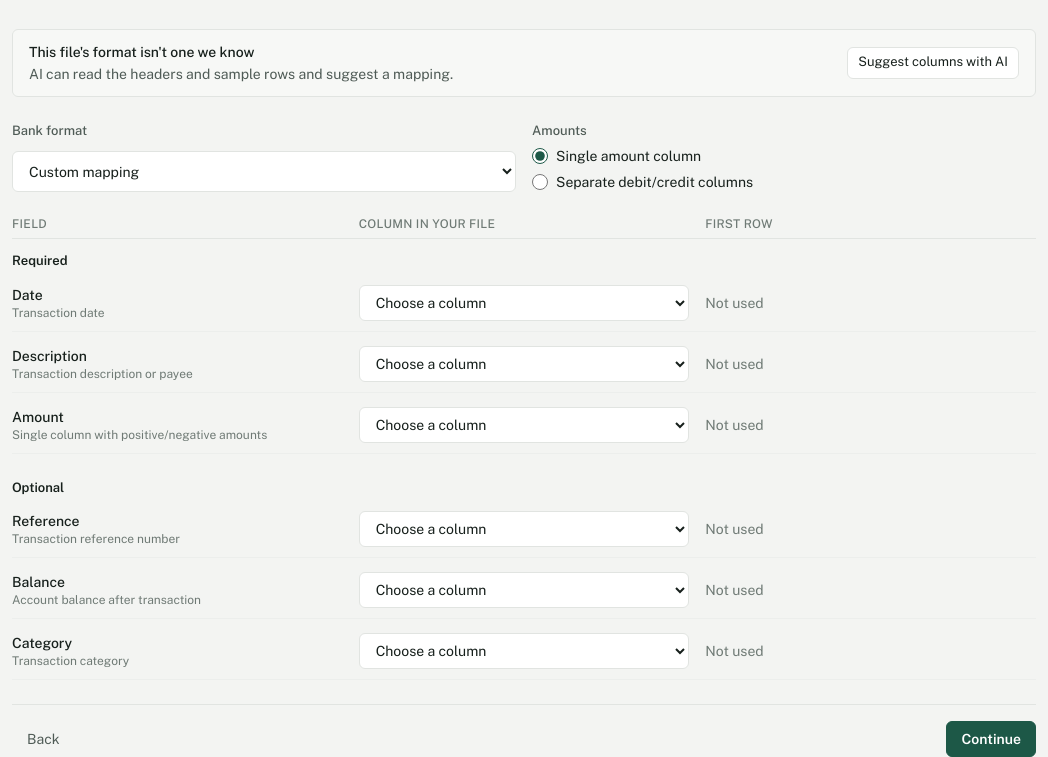
Test: MappingStep › validation › shows error when required fields are missing
Click the button "Continue" at (991, 739), box [946, 721, 1036, 756]
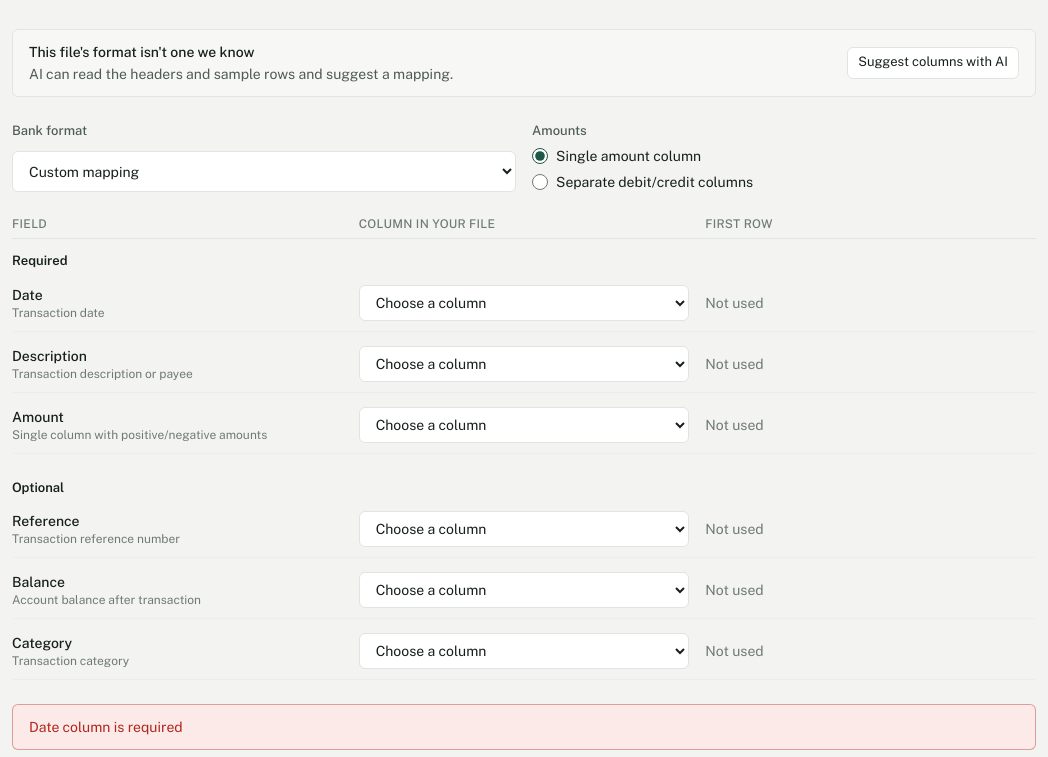
expect the text "Date column is required" is shown: met, box [29, 717, 183, 737]
